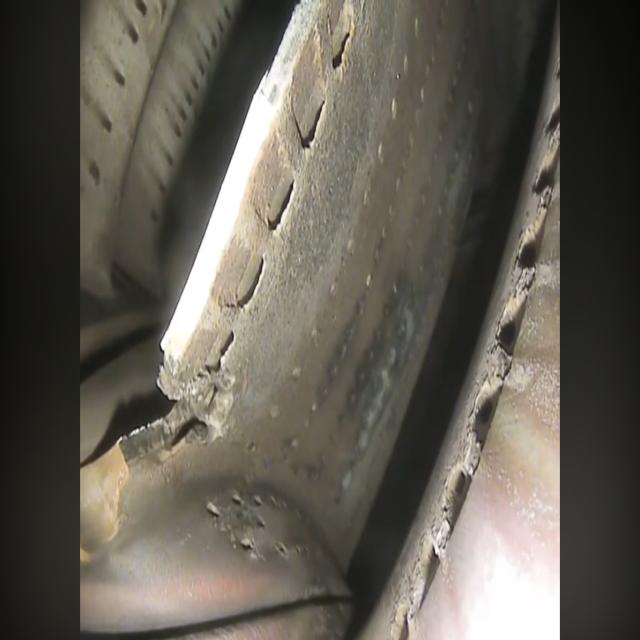crack: (124, 378, 216, 474)
turbine_blade: (90, 0, 501, 569), (365, 7, 559, 639)
